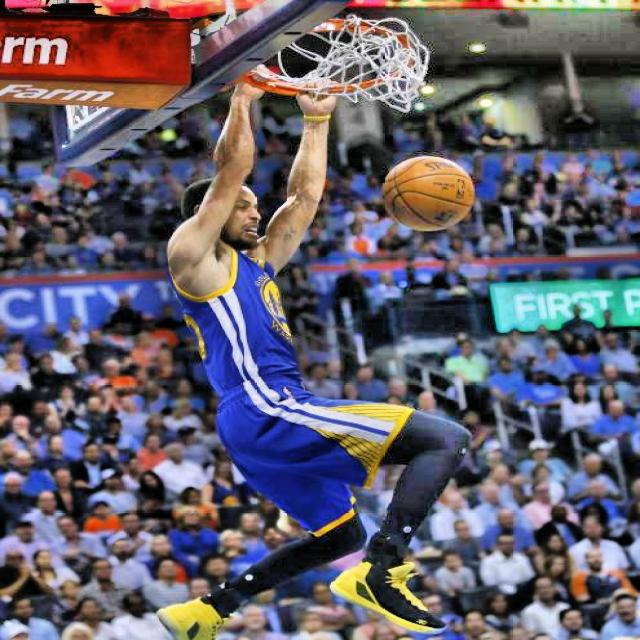board: (379, 155, 474, 230)
